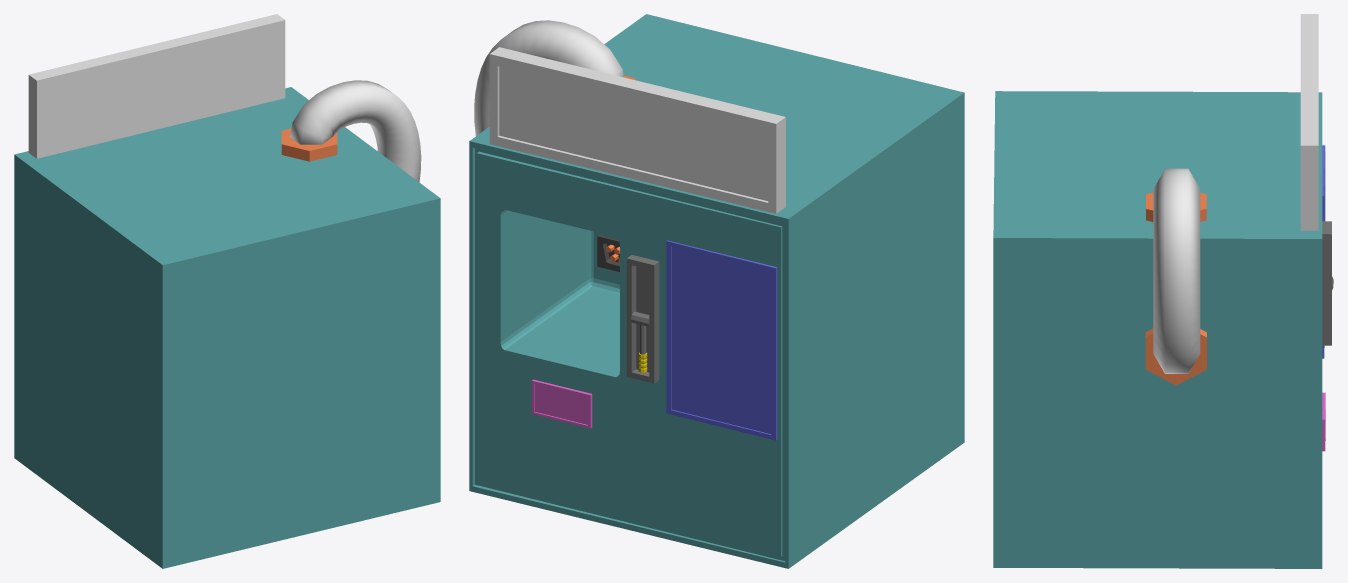
File: Restock.fbx
The picture shows the model from 3 angles, left to right: view 1: azimuth 30°, elevation 25°; view 2: azimuth 150°, elevation 25°; view 3: azimuth 270°, elevation 25°; orthographic projection. The views are drawn at different scales.
Visible parts, largest first — view 1: RestockUnit; view 2: RestockUnit; view 3: RestockUnit.
Boxes of the visible parts, bbox=[...] form: RestockUnit: bbox=[14, 14, 440, 568]; RestockUnit: bbox=[469, 14, 964, 568]; RestockUnit: bbox=[993, 14, 1331, 568].
Bounding box in the file's own units: 271 × 294 × 218.
